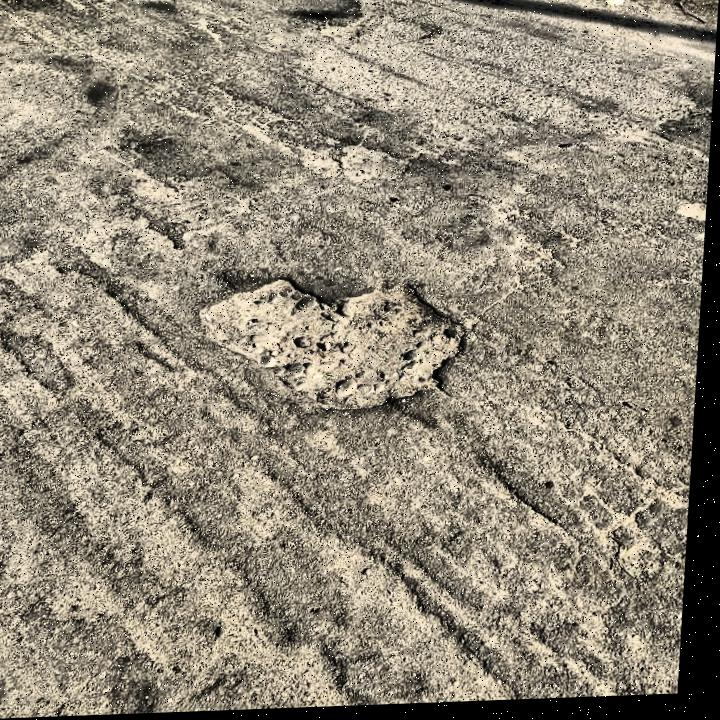pothole: (199, 271, 475, 417)
